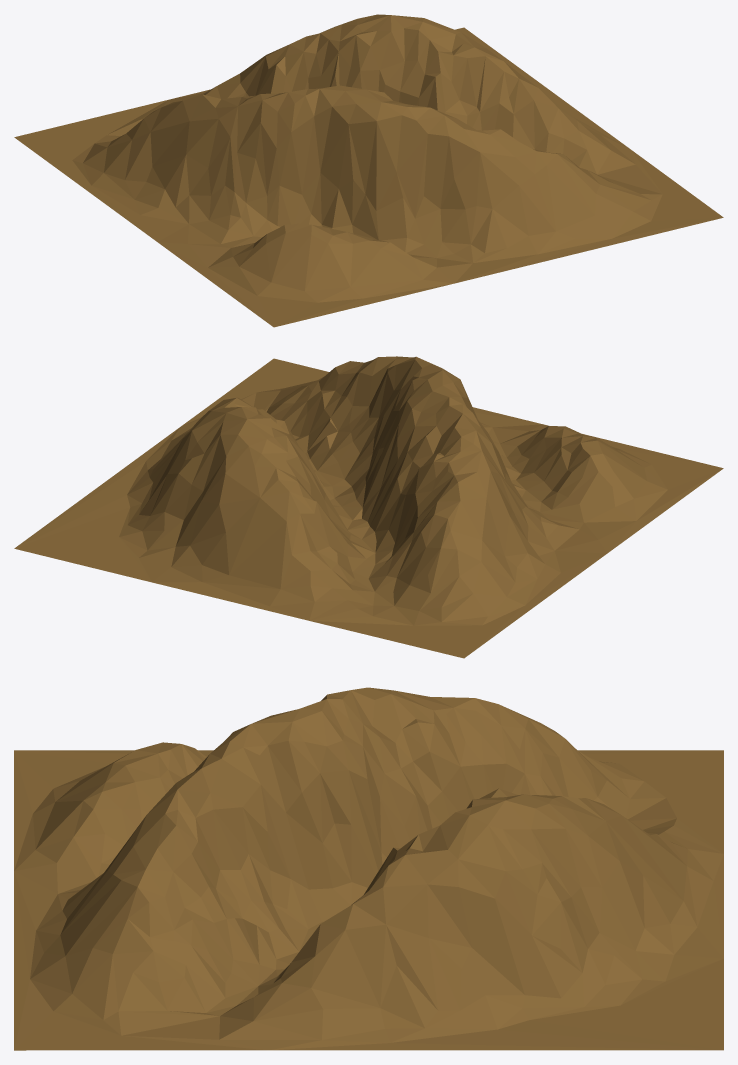
Rendered from Terrain_14.fbx.
3 views of the same model, one above another, from view 1: azimuth 30°, elevation 25°; view 2: azimuth 150°, elevation 25°; view 3: azimuth 270°, elevation 25° (orthographic). The views are drawn at different scales.
Visible parts, largest first — view 1: Terrain_14; view 2: Terrain_14; view 3: Terrain_14.
Boxes of the visible parts, x1,y1,x2,y2 form: Terrain_14: [14, 14, 723, 327]; Terrain_14: [14, 356, 723, 658]; Terrain_14: [14, 687, 723, 1050].
Bounding box in the file's own units: 20000 × 4981 × 20000.
